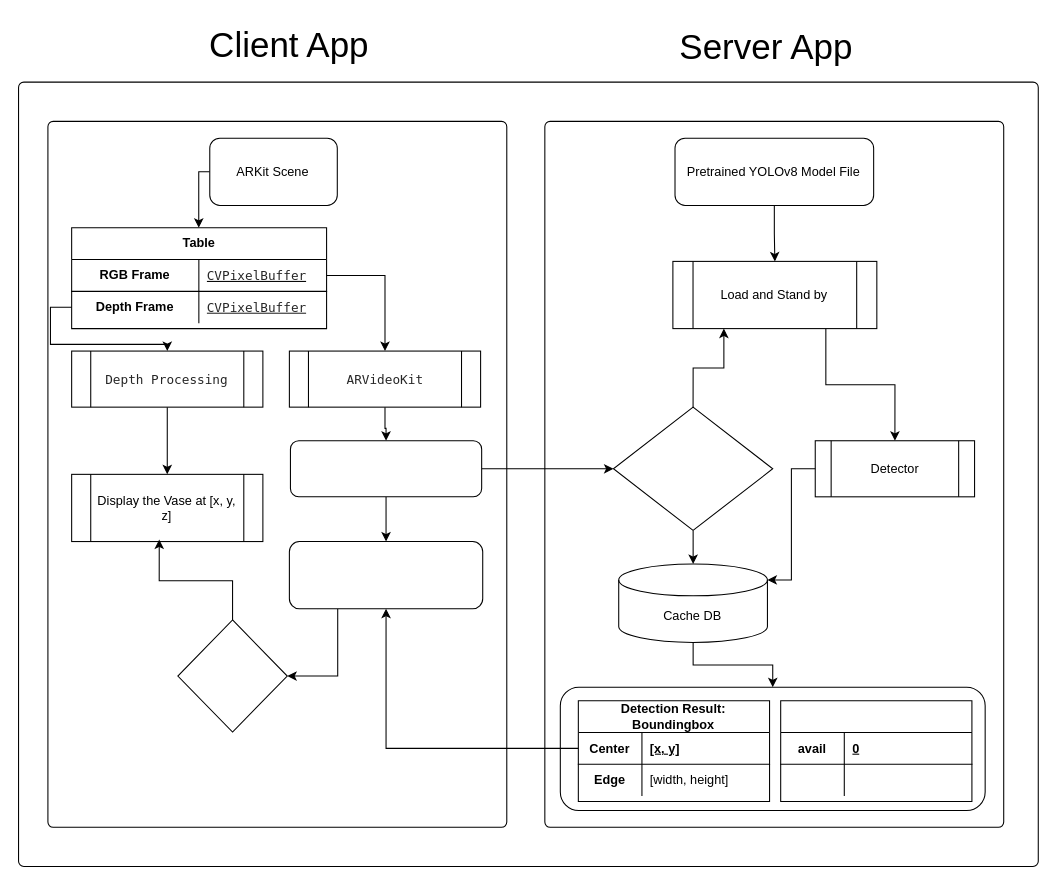
This 1057x885 diagram has some shape labels left out. The shapes that lost their labels are listed below. From the top down, each one's box as (x1, y1, x2, y2) in pixels, then its label:
(289, 440, 482, 497): base64EncodedString
(612, 406, 773, 530): New Image incoming
(288, 540, 483, 609): Bounding Box Receiver
(177, 619, 287, 732): BBox Available
(780, 700, 972, 801): Detection Result: Null
